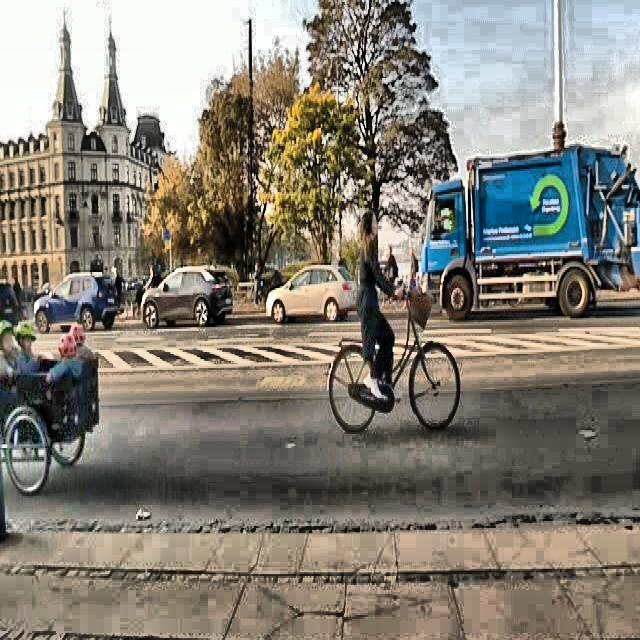bicycle: (328, 282, 459, 442)
ladcykel: (0, 326, 103, 494)
